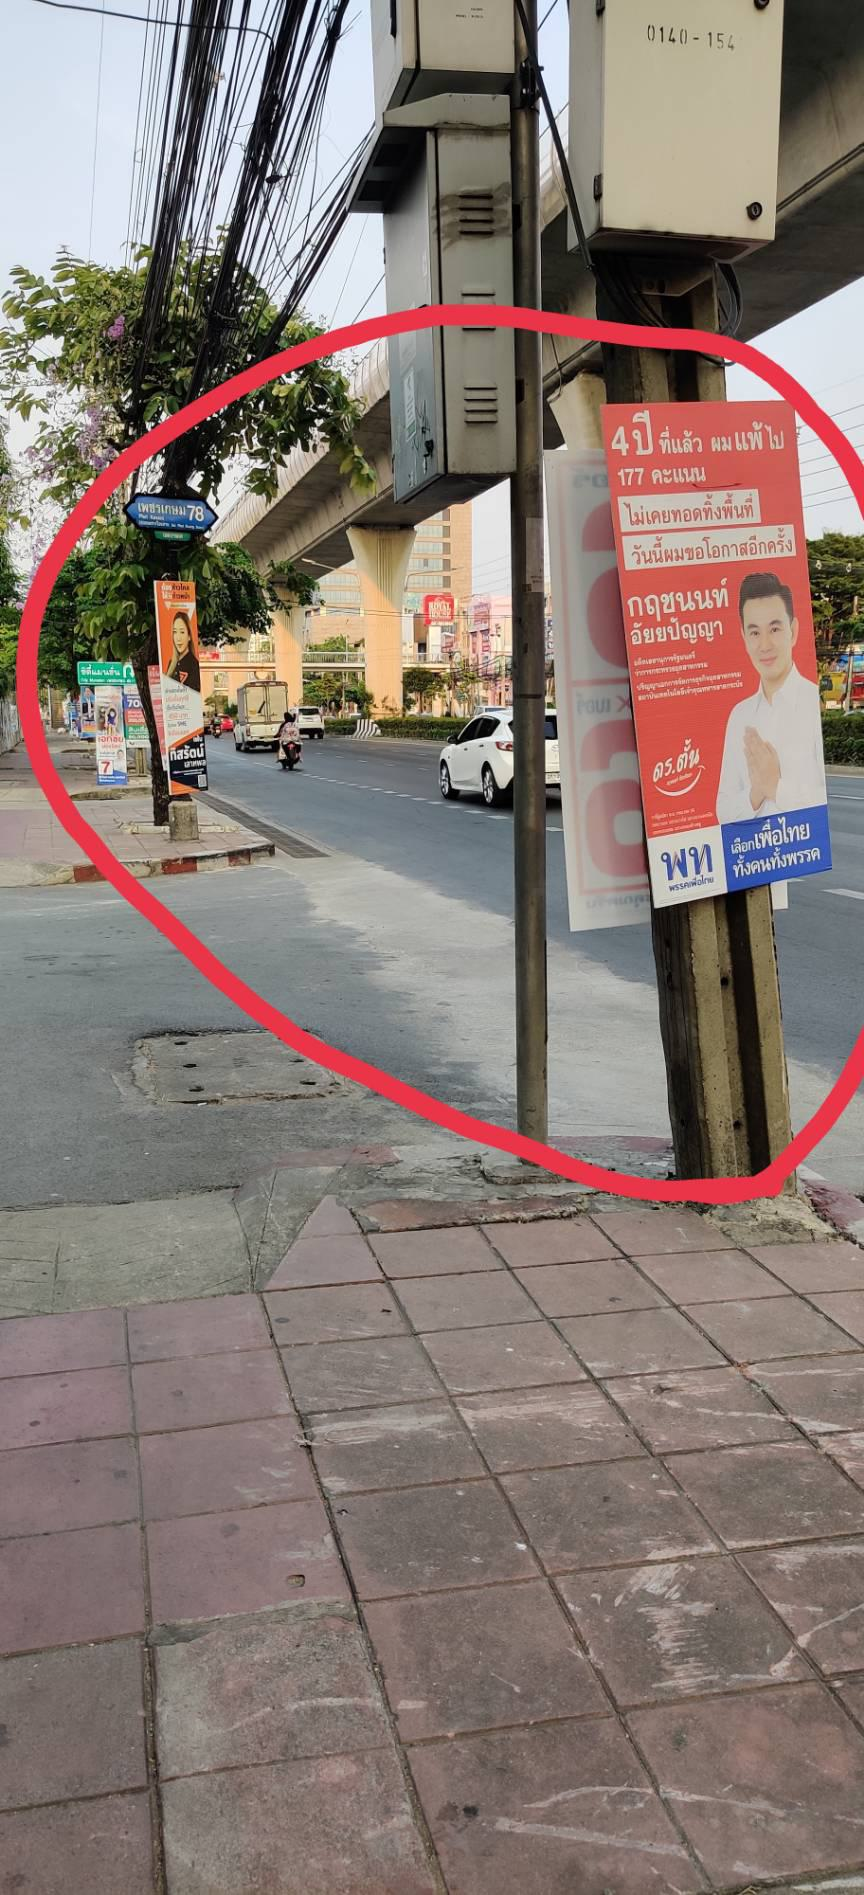Banner: (601, 396, 847, 912)
